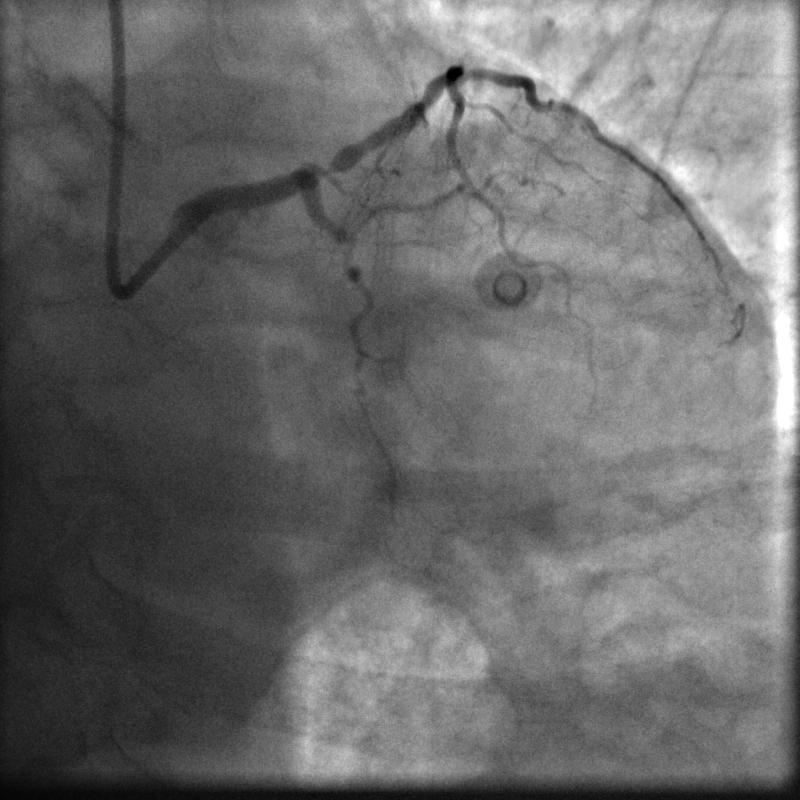Stenosis: (297, 151, 346, 179)
